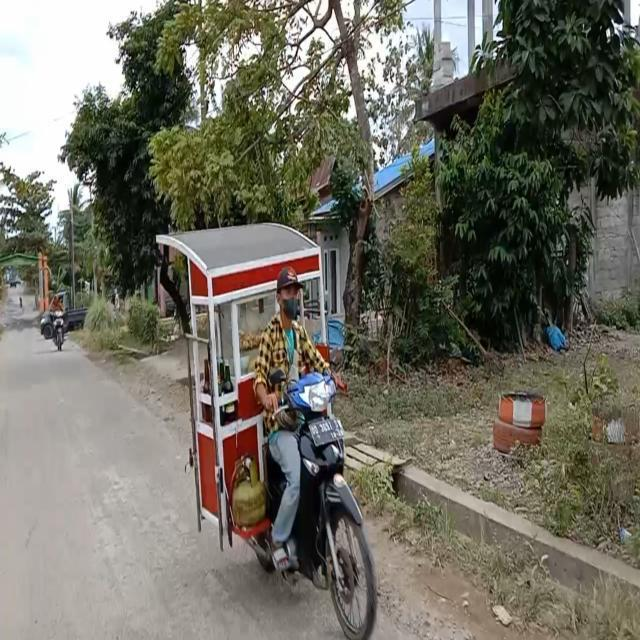two_wheeler_front: (194, 340, 389, 639), (44, 305, 73, 354)
